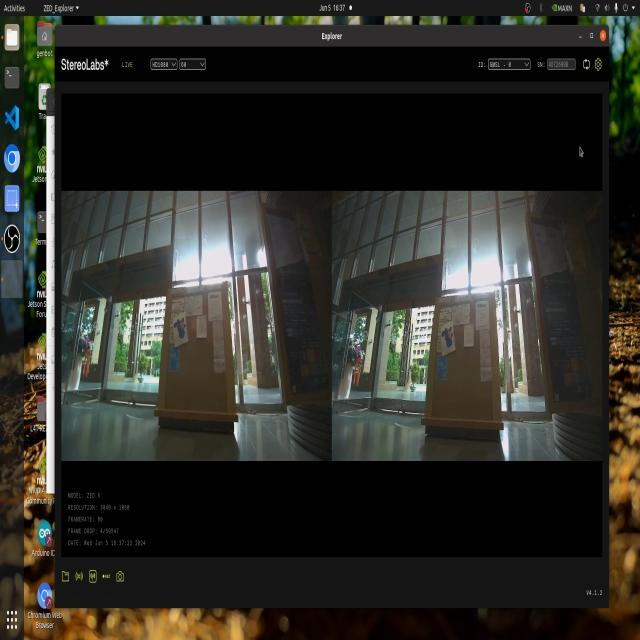blue: (171, 316, 191, 348), (436, 324, 456, 354)
